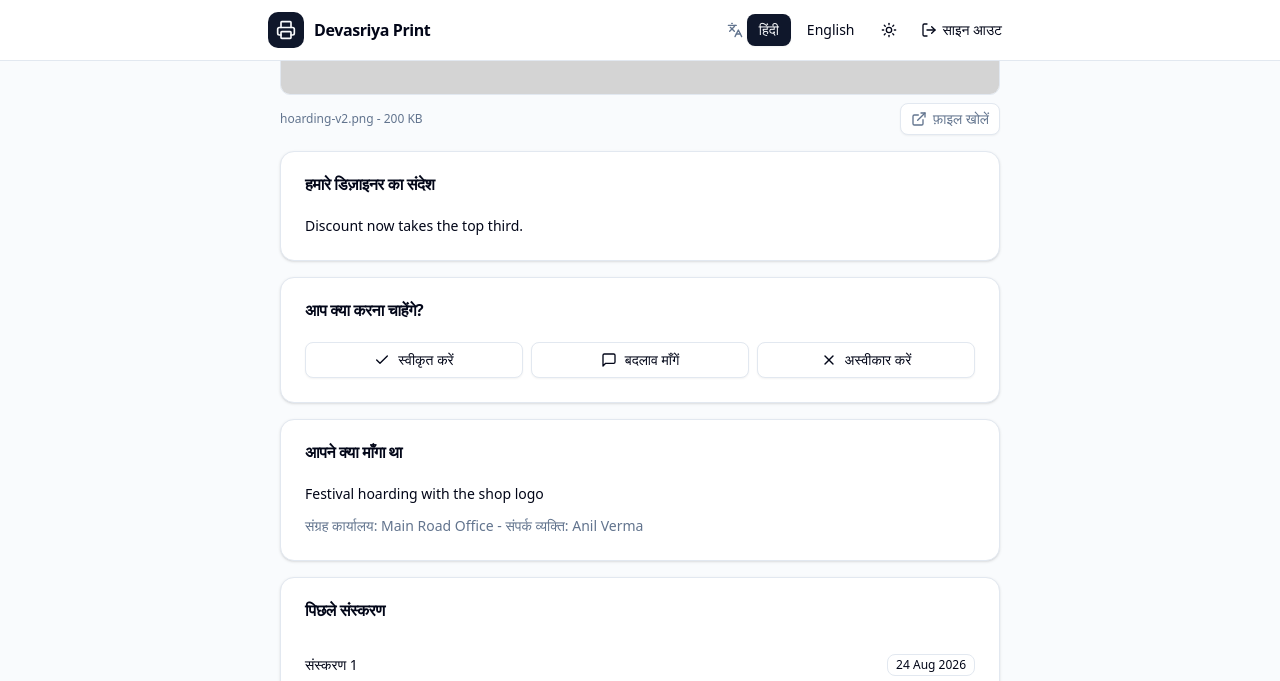
it: answering › insists on a comment for a change request and for a rejection
The width and height of the screenshot is (1280, 681).
(page scrolled)
Click the button "बदलाव माँगें". click: (640, 360)
box: [531,342,749,378]
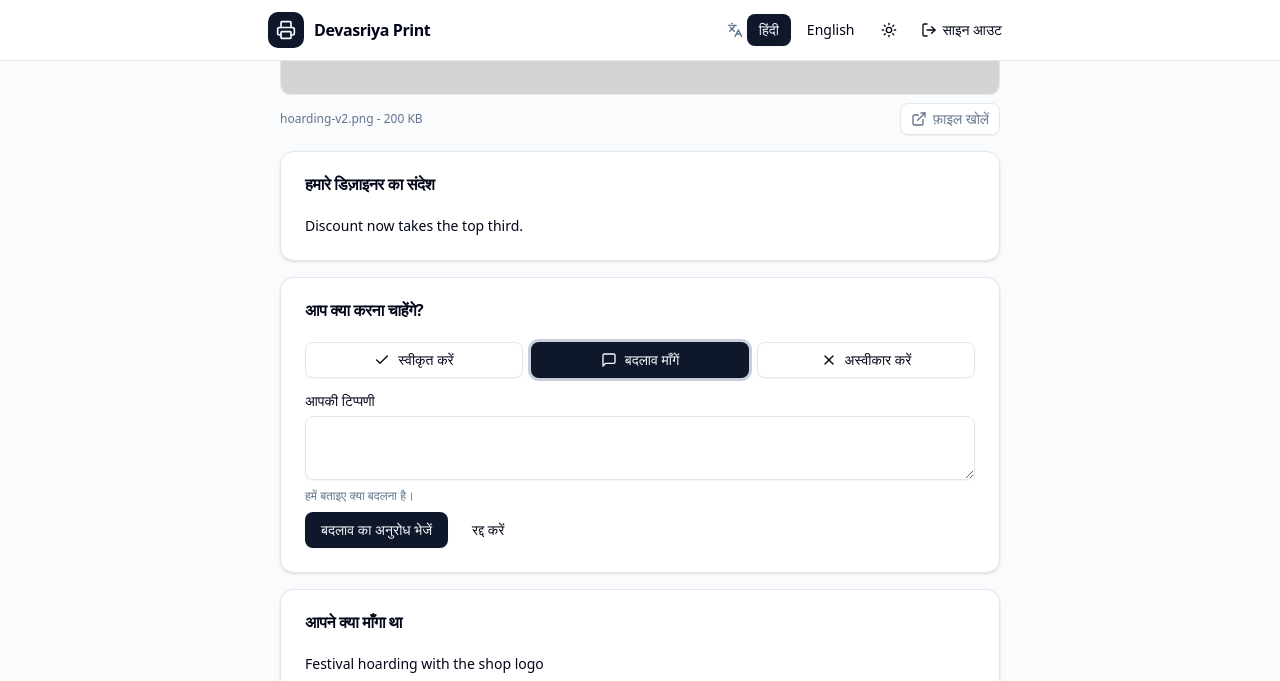
Click the button "बदलाव का अनुरोध भेजें". click: (377, 530)
box: [305,512,448,548]
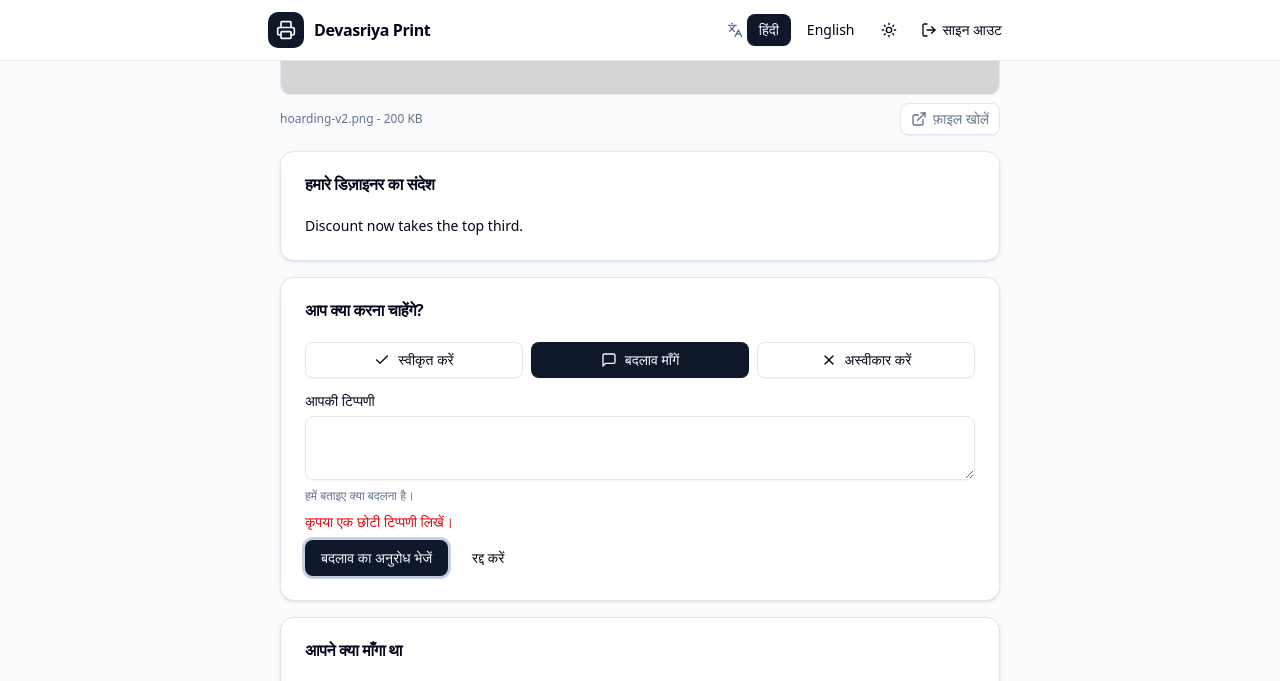
Expected: the text "कृपया एक छोटी टिप्पणी लिखें।" is shown, [305,512,453,531]
Click the button "अस्वीकार करें". click: (866, 360)
box: [757,342,975,378]
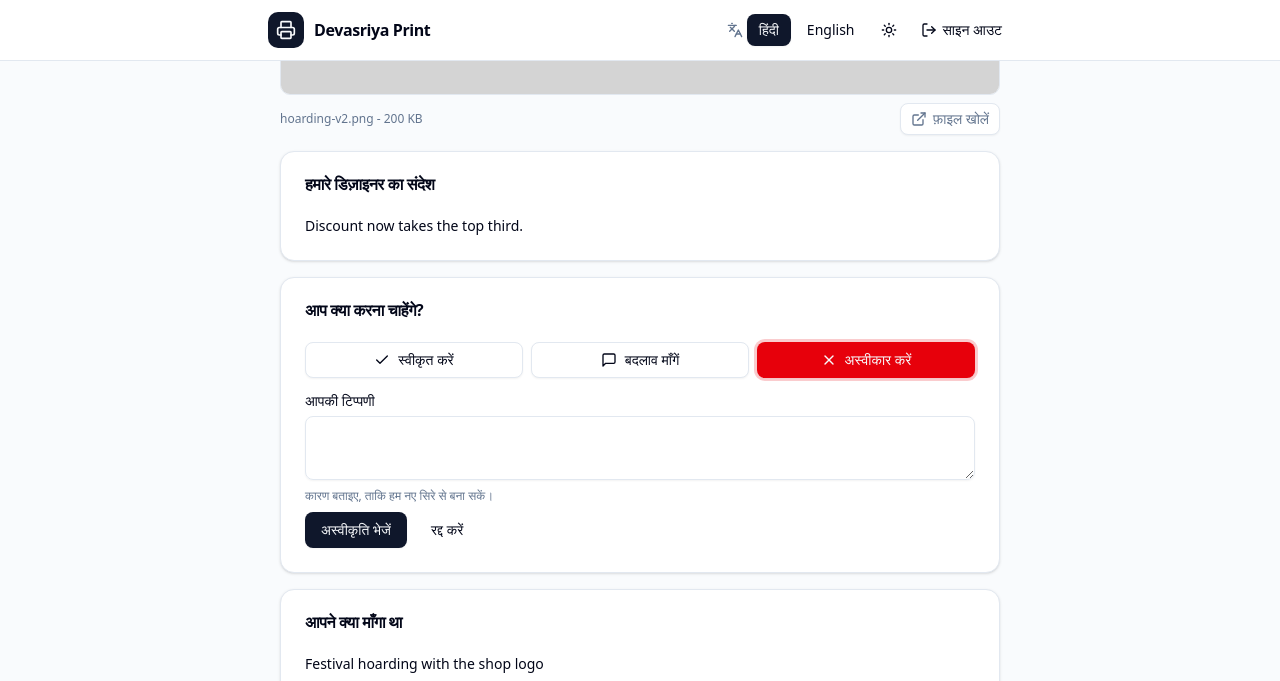
Click the button "अस्वीकृति भेजें". click: (356, 530)
box: [305,512,407,548]
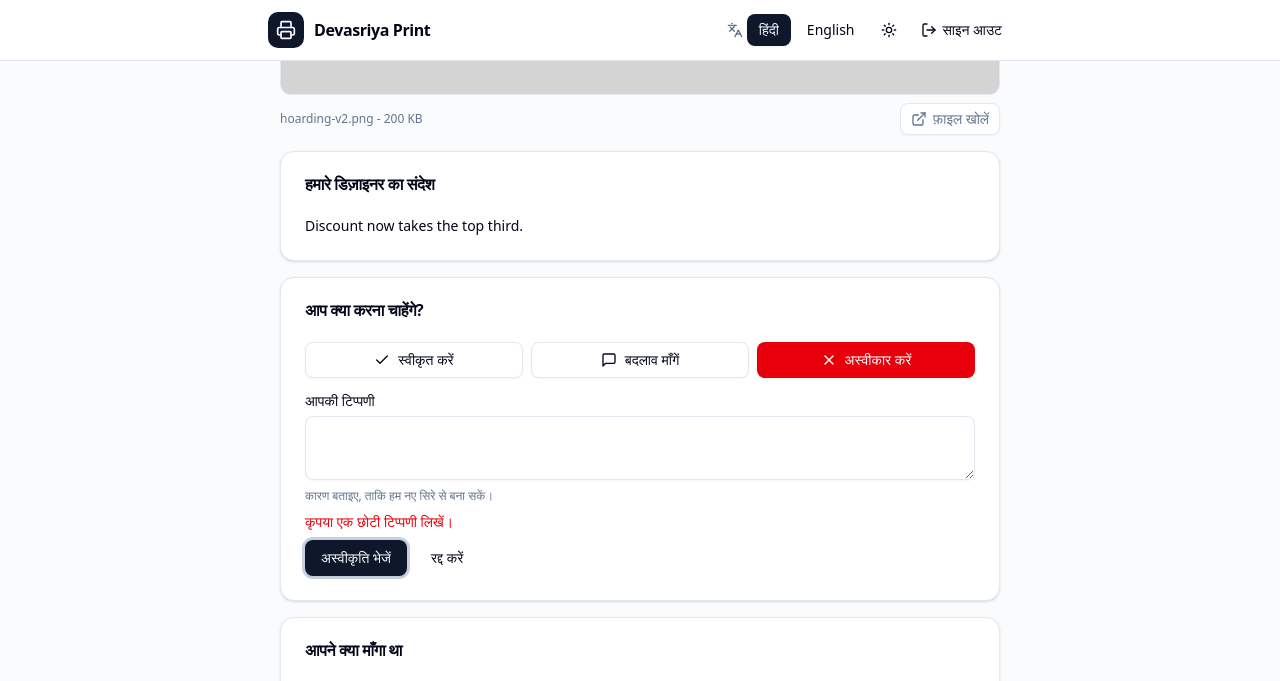
Expected: the text "कृपया एक छोटी टिप्पणी लिखें।" is shown, [305,512,453,531]
